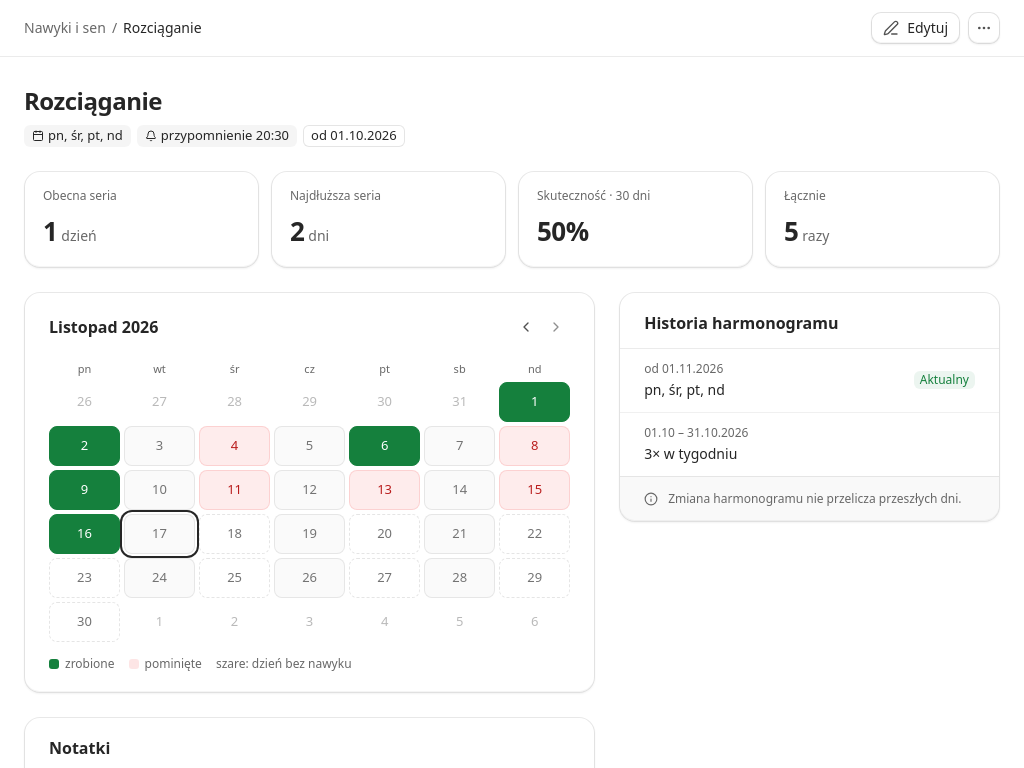
HabitDetail › nawigacja miesięcy: › wyłączony w bieżącym, ‹ na miesiącu startu
Expected: the button named "Następny miesiąc" is disabled, [542,313,570,341]
Click the button named "Poprzedni miesiąc". click: (526, 327)
box: [512,313,540,341]
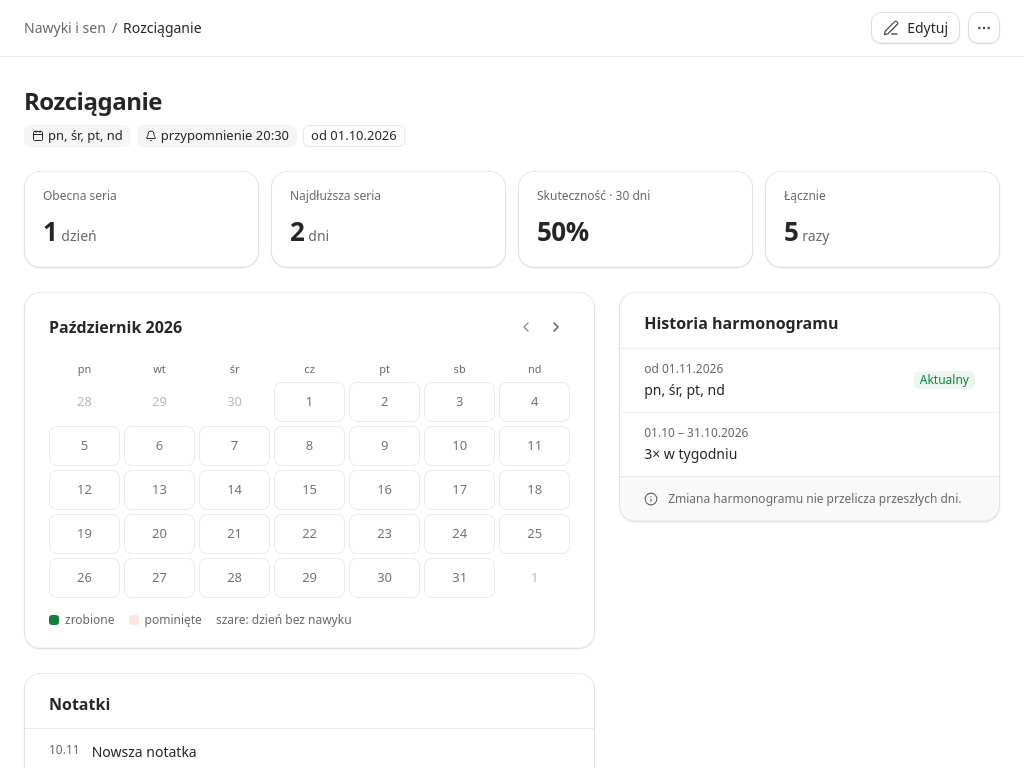
Expected: the button named "Następny miesiąc" is enabled, [542,313,570,341]
Result: the heading "Październik 2026" is shown at [49,317,182,337]
